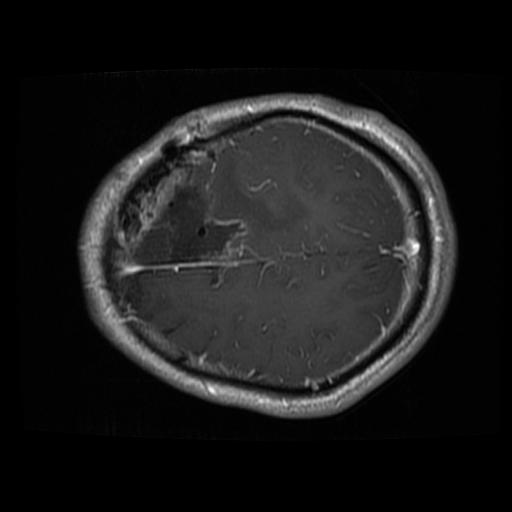glioma: (131, 181, 244, 291)
